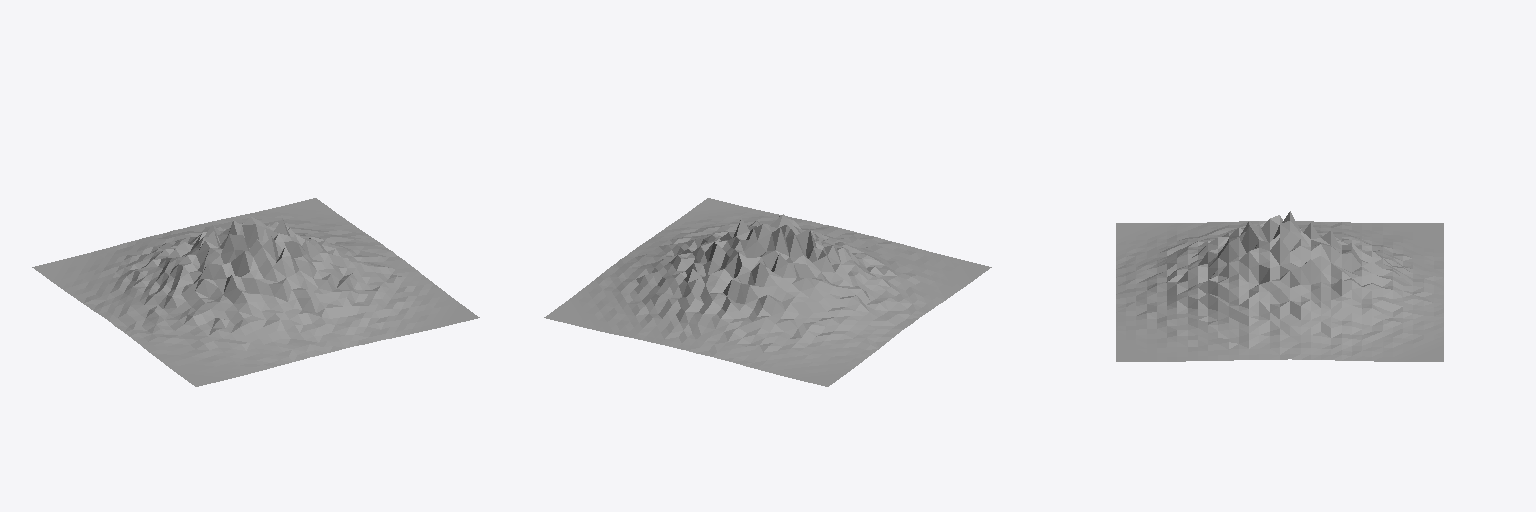
The model's file is land.obj.
The picture shows the model from 3 angles: view 1: azimuth 30°, elevation 25°; view 2: azimuth 150°, elevation 25°; view 3: azimuth 270°, elevation 25°; orthographic projection.
Visible parts, largest first — view 1: Plane; view 2: Plane; view 3: Plane.
Boxes of the visible parts, <box> form: Plane: <box>32,198,479,386</box>; Plane: <box>544,198,991,386</box>; Plane: <box>1116,211,1443,361</box>.
Size of the model in its own units: 26.19 by 6.44 by 26.19.